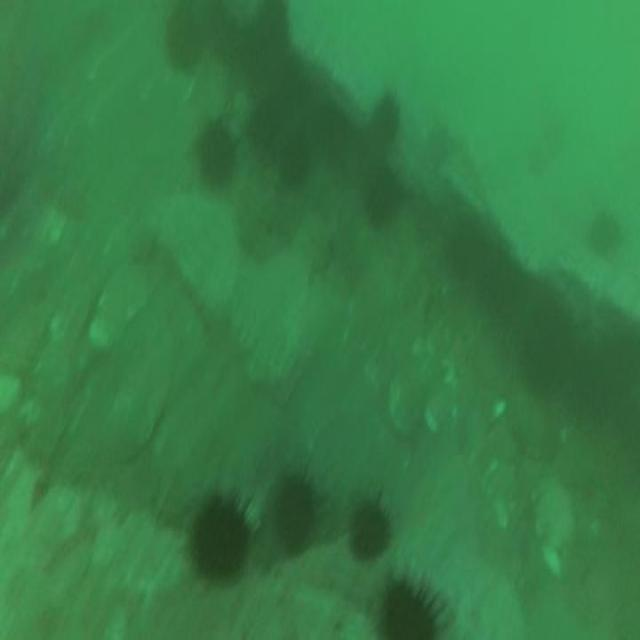echinus: (193, 499, 251, 577), (379, 583, 433, 640), (274, 480, 316, 550), (194, 120, 230, 190), (165, 13, 202, 74), (349, 503, 385, 561), (247, 93, 276, 149), (366, 168, 396, 220), (317, 104, 343, 160), (280, 131, 309, 180), (257, 3, 285, 52), (593, 206, 619, 254), (373, 95, 399, 136)
